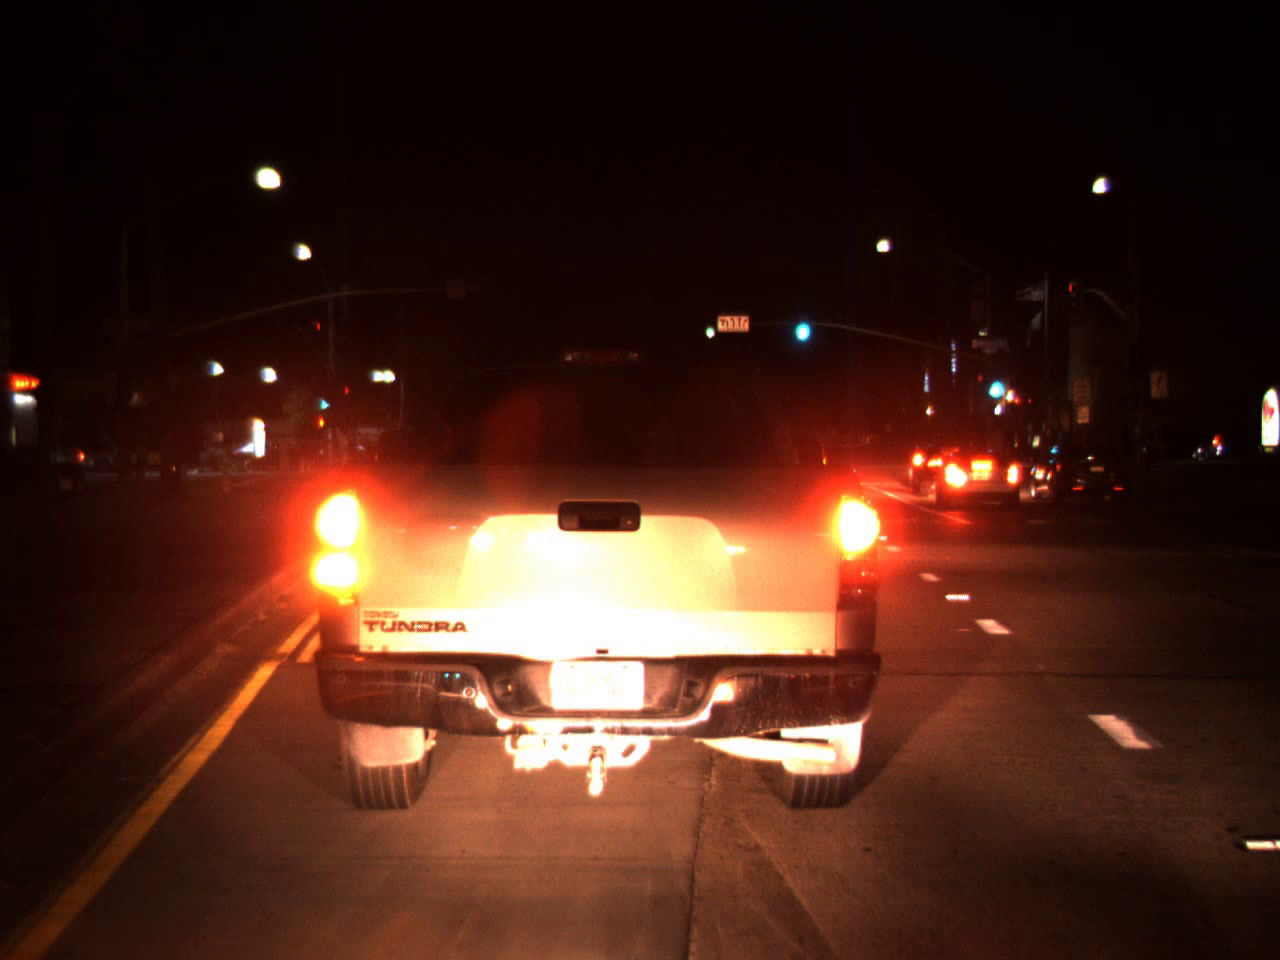go: (789, 301, 814, 348), (984, 359, 1007, 404), (315, 390, 329, 411), (702, 317, 714, 338)
